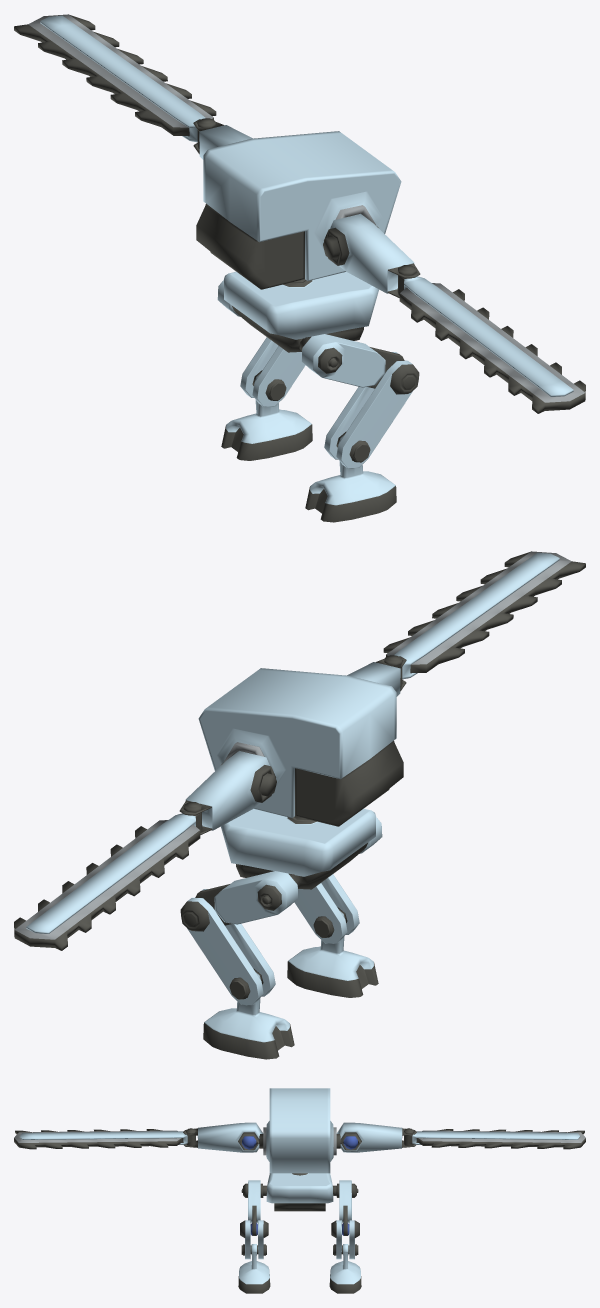
Rendered from Robot.fbx.
3 renders of one model, top to bottom at view 1: azimuth 30°, elevation 25°; view 2: azimuth 150°, elevation 25°; view 3: azimuth 270°, elevation 25°, orthographic. The views are drawn at different scales.
Parts seen in each view (by area): view 1: Head, Chainsaw_Aug, Chainsaw_Aug.003, Body, Leg_Middle_R, Arm_R, Foot_L, Foot_R, Leg_Connector_R, Leg_Middle_L, Arm_L; view 2: Head, Chainsaw_Aug.003, Chainsaw_Aug, Body, Leg_Middle_L, Arm_L, Foot_R, Foot_L, Leg_Connector_L, Leg_Middle_R, Arm_R; view 3: Head, Chainsaw_Aug, Chainsaw_Aug.003, Body, Arm_R, Arm_L, Foot_R, Foot_L, Leg_Connector_R, Leg_Connector_L, Leg_Middle_R, Leg_Middle_L.
Part boxes in pixels (box(x1,y1,x2,y2)): Head: box(196, 131, 401, 289); Chainsaw_Aug: box(397, 265, 585, 413); Chainsaw_Aug.003: box(14, 14, 216, 148); Body: box(224, 271, 378, 352); Leg_Middle_R: box(324, 352, 419, 468); Arm_R: box(323, 213, 420, 297); Foot_L: box(221, 371, 312, 460); Foot_R: box(305, 433, 396, 522); Leg_Connector_R: box(299, 334, 404, 388); Leg_Middle_L: box(240, 337, 305, 406); Arm_L: box(193, 119, 252, 159); Head: box(198, 668, 403, 826); Chainsaw_Aug.003: box(14, 802, 202, 950); Chainsaw_Aug: box(383, 551, 585, 685); Body: box(221, 808, 375, 889); Leg_Middle_L: box(180, 889, 275, 1005); Arm_L: box(179, 750, 276, 834); Foot_R: box(287, 908, 378, 997); Foot_L: box(203, 970, 294, 1059); Leg_Connector_L: box(195, 871, 300, 925); Leg_Middle_R: box(294, 874, 359, 943); Arm_R: box(347, 656, 406, 696); Head: box(242, 1088, 357, 1173); Chainsaw_Aug: box(14, 1128, 196, 1149); Chainsaw_Aug.003: box(403, 1128, 585, 1149); Body: box(266, 1173, 333, 1211); Arm_R: box(183, 1122, 263, 1152); Arm_L: box(336, 1122, 416, 1152); Foot_R: box(238, 1244, 270, 1293); Foot_L: box(329, 1244, 361, 1293); Leg_Connector_R: box(241, 1180, 266, 1235); Leg_Connector_L: box(333, 1180, 358, 1235); Leg_Middle_R: box(240, 1220, 268, 1259); Leg_Middle_L: box(331, 1220, 359, 1259).
Size of the model in its own units: 2.04 by 12.21 by 4.14.
1 material, 1 textured.
